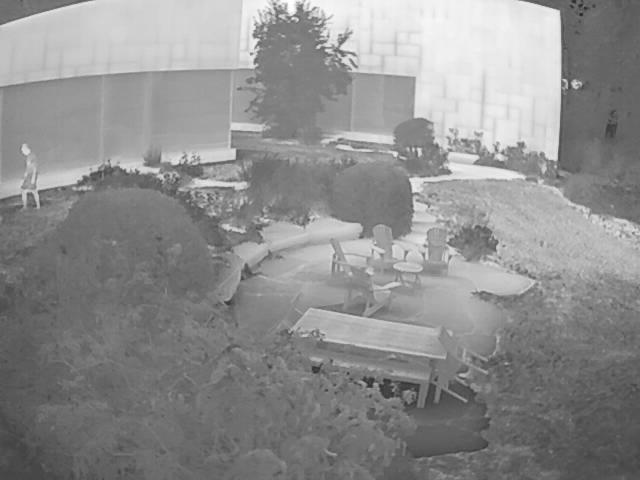person: (20, 141, 40, 214)
